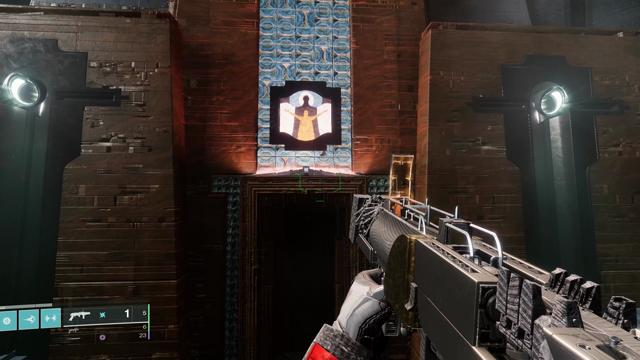worship: (279, 90, 332, 141)
